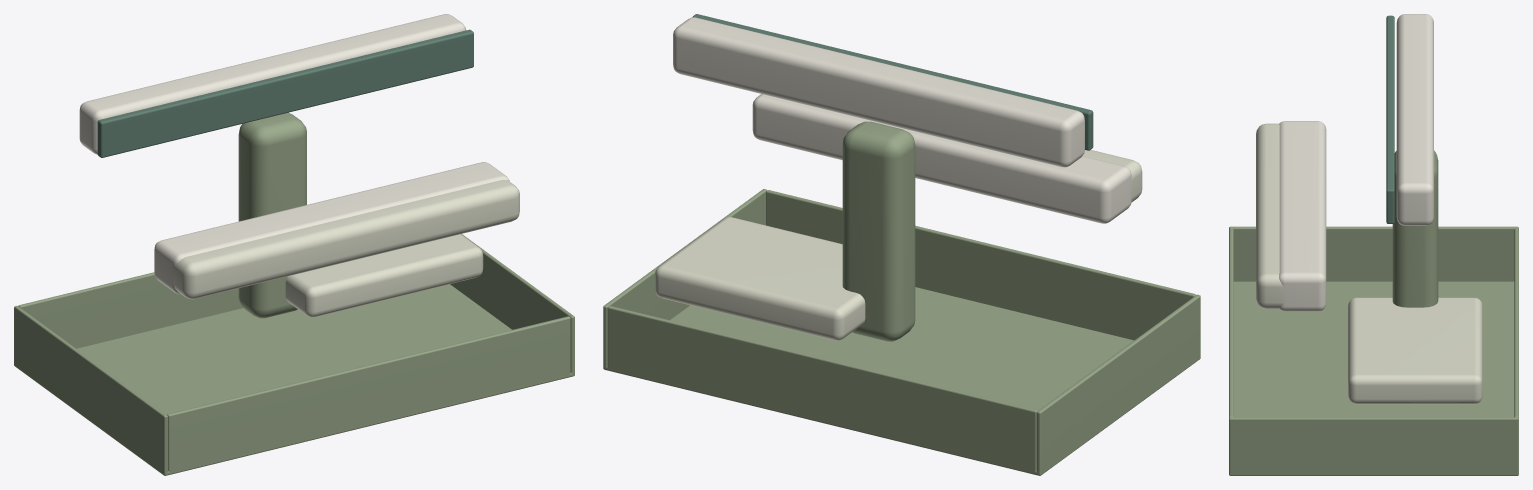
Rendered from glass-finish.glb.
3 renders of one model, left to right at view 1: azimuth 30°, elevation 25°; view 2: azimuth 150°, elevation 25°; view 3: azimuth 270°, elevation 25°, orthographic. The views are drawn at different scales.
Visible parts, largest first — view 1: Dock with drip tray floor, Dock with drip tray front, Wash pad, Replaceable blade, Dock with drip tray left, Finishing blade carrier, Folded finishing cloth, Dock with drip tray back, Wash pad carrier, Tool grip, Dock with drip tray right; view 2: Dock with drip tray back, Finishing blade carrier, Dock with drip tray floor, Dock with drip tray front, Folded finishing cloth, Wash pad carrier, Tool grip, Dock with drip tray left, Dock with drip tray right, Replaceable blade, Wash pad; view 3: Dock with drip tray floor, Dock with drip tray right, Folded finishing cloth, Dock with drip tray left, Wash pad carrier, Finishing blade carrier, Wash pad, Tool grip, Replaceable blade, Dock with drip tray back, Dock with drip tray front.
Part boxes in pixels (box(x1,y1,x2,y2)): Dock with drip tray floor: box(76, 284, 574, 475); Dock with drip tray front: box(167, 316, 570, 473); Wash pad: box(173, 179, 519, 299); Replaceable blade: box(97, 29, 473, 157); Dock with drip tray left: box(14, 306, 167, 475); Finishing blade carrier: box(79, 14, 466, 154); Folded finishing cloth: box(285, 234, 483, 317); Dock with drip tray back: box(18, 272, 243, 348); Wash pad carrier: box(154, 162, 509, 294); Tool grip: box(238, 112, 306, 318); Dock with drip tray right: box(450, 234, 574, 375); Dock with drip tray back: box(607, 306, 1037, 474); Finishing blade carrier: box(673, 17, 1084, 167); Dock with drip tray floor: box(604, 287, 1200, 475); Dock with drip tray front: box(766, 190, 1195, 340); Folded finishing cloth: box(655, 217, 865, 340); Wash pad carrier: box(752, 94, 1131, 223); Tool grip: box(842, 121, 915, 341); Dock with drip tray left: box(1036, 294, 1200, 475); Dock with drip tray right: box(603, 189, 766, 369); Replaceable blade: box(692, 14, 1093, 150); Wash pad: box(1082, 150, 1142, 202); Dock with drip tray floor: box(1230, 281, 1518, 475); Dock with drip tray right: box(1229, 417, 1518, 475); Folded finishing cloth: box(1348, 297, 1482, 404); Dock with drip tray left: box(1229, 226, 1518, 281); Wash pad carrier: box(1279, 121, 1326, 311); Finishing blade carrier: box(1396, 14, 1433, 225); Wash pad: box(1256, 123, 1283, 308); Tool grip: box(1392, 150, 1438, 307); Replaceable blade: box(1386, 15, 1394, 223); Dock with drip tray back: box(1514, 228, 1518, 417); Dock with drip tray front: box(1229, 228, 1233, 417).
Bounding box in the file's own units: 0.22 × 0.15 × 0.14.
